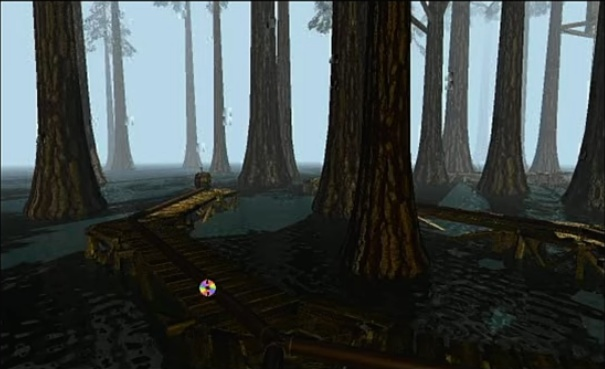Waiting: (196, 276, 219, 297)
